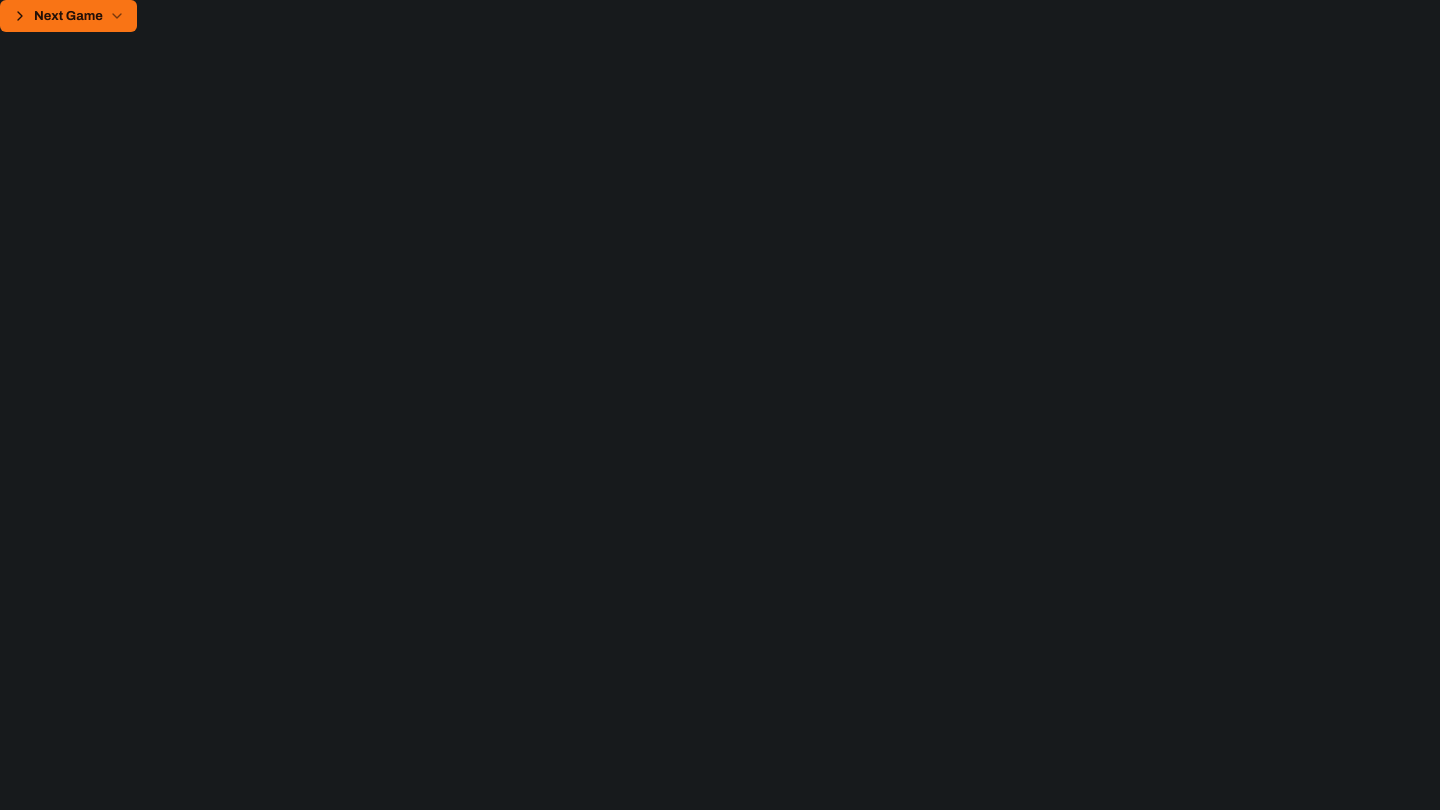
Test: NextGameControl › offers no full reset in the league dialog (open season)
What coordinates should you click on to do the following:
click the button "Next Game"
I would click on:
 (68, 16)
Its box is [0,0,137,32].
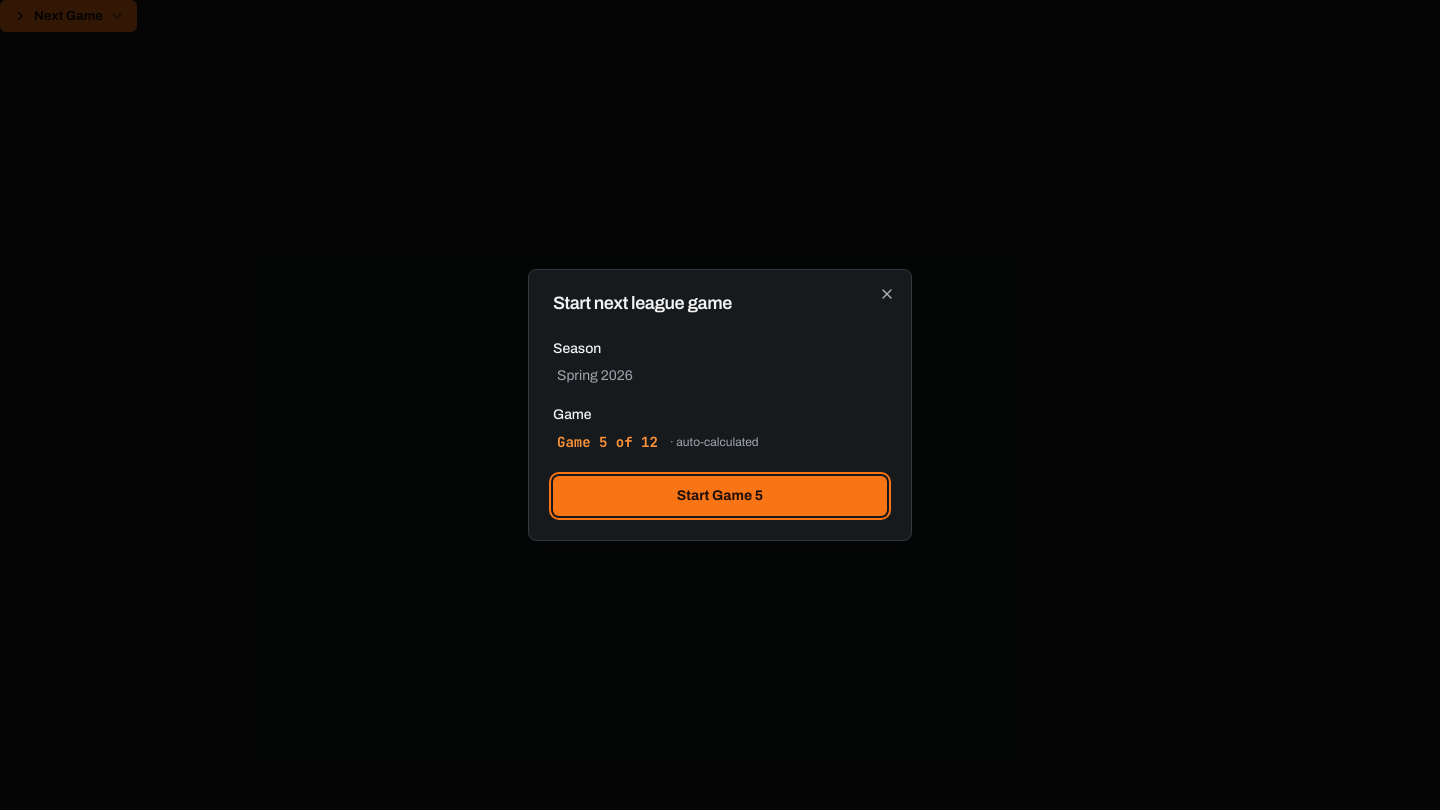
Now the heading "Start next league game" is shown, box [553,293,732,313]
